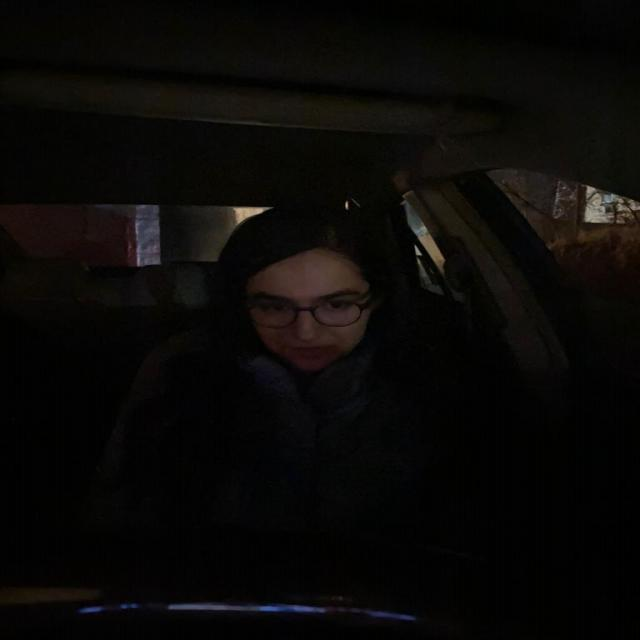person: (222, 205, 403, 380)
